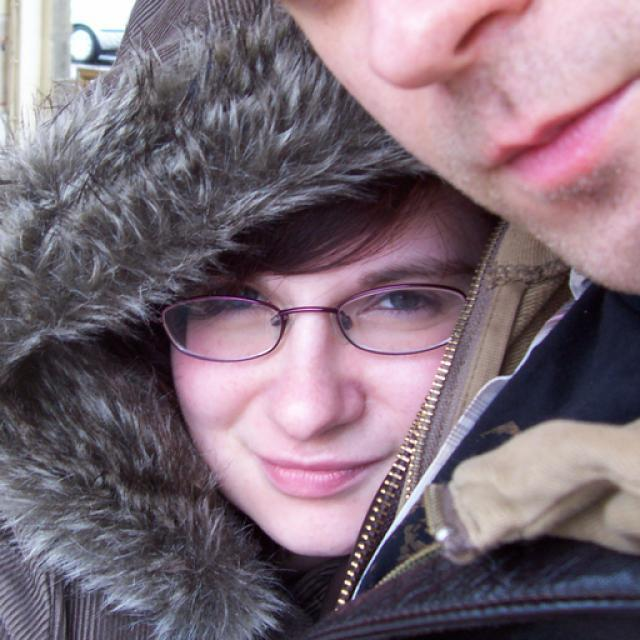happy: (169, 188, 489, 558)
